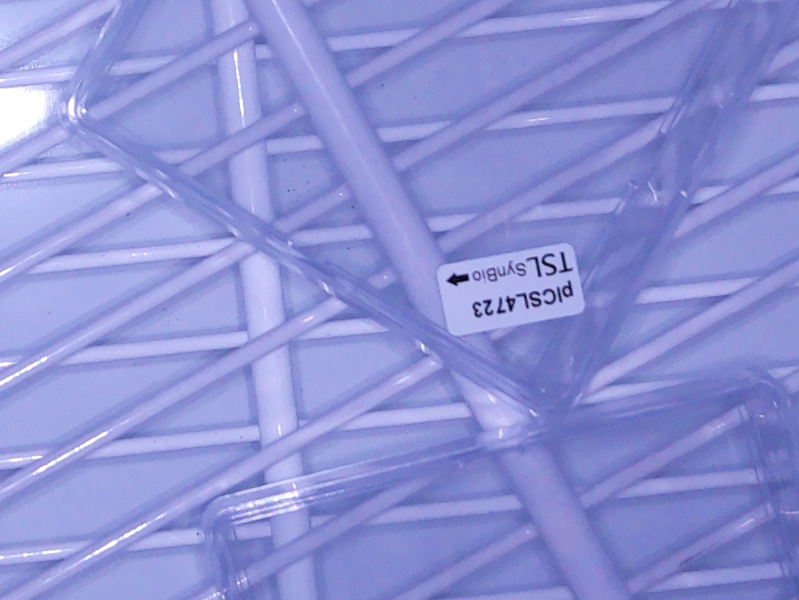plate: (57, 1, 799, 417), (199, 368, 799, 600)
